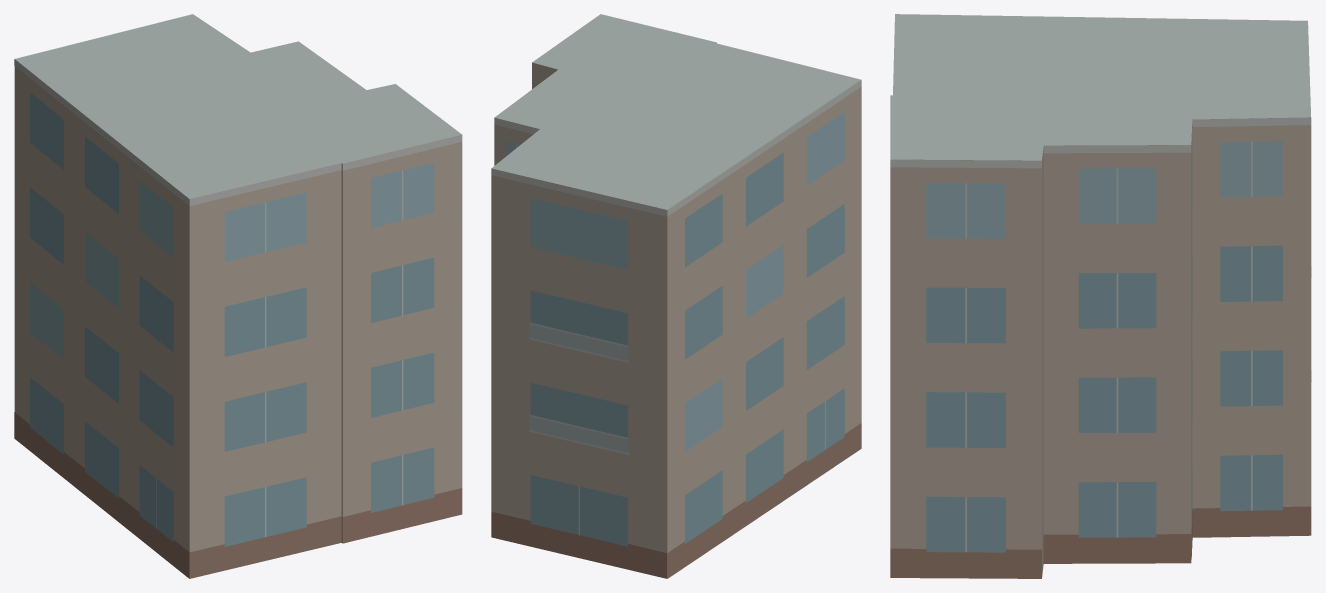
File: survey-upis-32464209.glb
3 views of the same model, side by side, from view 1: azimuth 30°, elevation 25°; view 2: azimuth 150°, elevation 25°; view 3: azimuth 270°, elevation 25° (orthographic). The views are drawn at different scales.
Visible parts, largest first — view 1: survey-upis-32464209.tmp; view 2: survey-upis-32464209.tmp; view 3: survey-upis-32464209.tmp.
Part boxes in pixels (box(x1,y1,x2,y2)): survey-upis-32464209.tmp: box(14, 14, 462, 578); survey-upis-32464209.tmp: box(491, 14, 861, 578); survey-upis-32464209.tmp: box(890, 14, 1311, 578).
Size of the model in its own units: 9.93 by 13.2 by 12.06.
